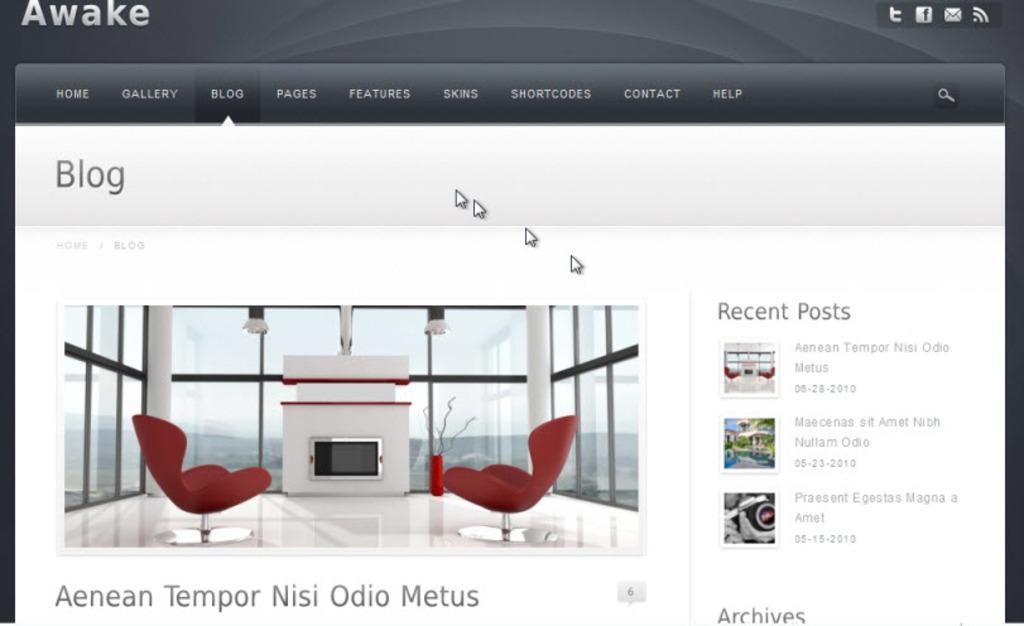Chair: (120, 416, 284, 540), (439, 413, 585, 546), (723, 367, 742, 385), (759, 365, 777, 384)
